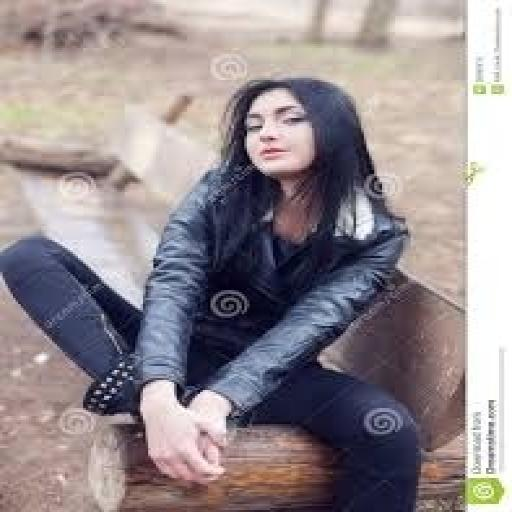sitting: (0, 74, 426, 510)
